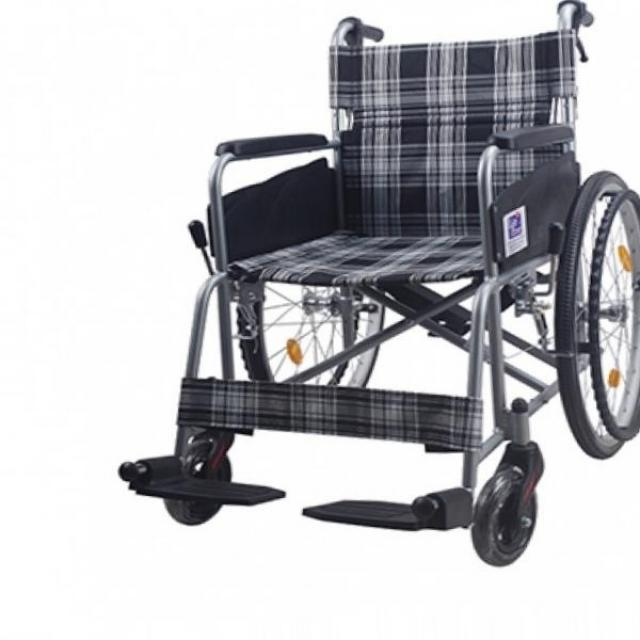wheelchair: (116, 4, 640, 572)
